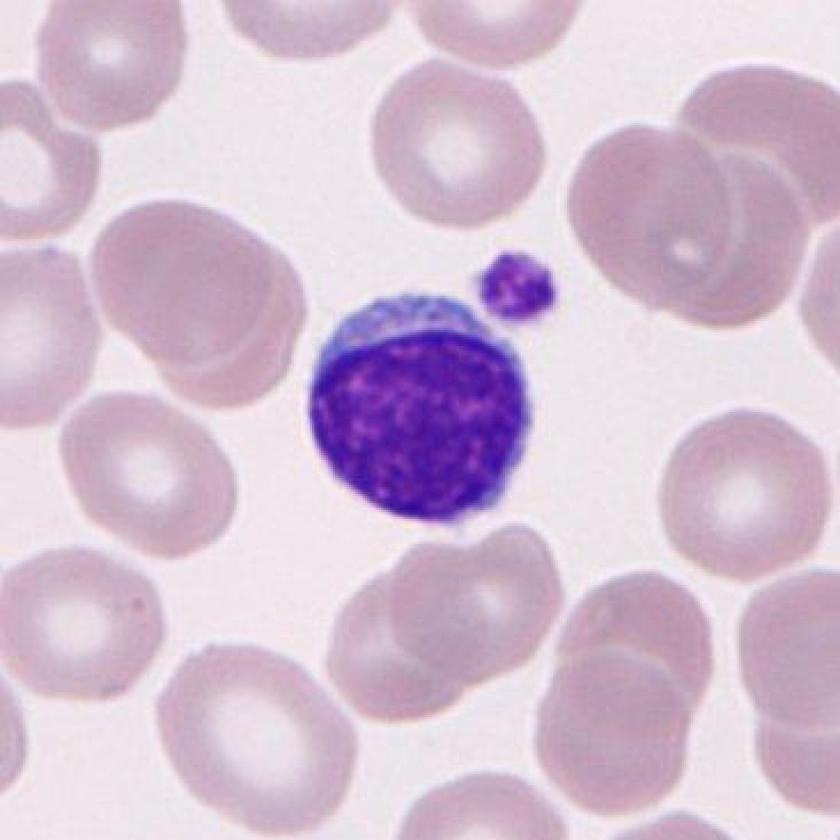lymphocyte: (292, 279, 545, 545)
